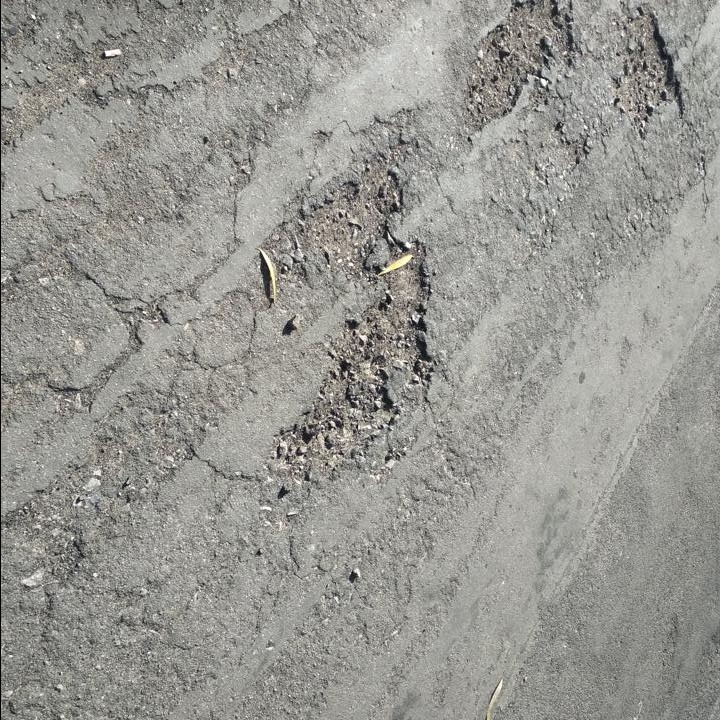pothole: (256, 157, 437, 483), (459, 0, 580, 140), (607, 1, 685, 139)
